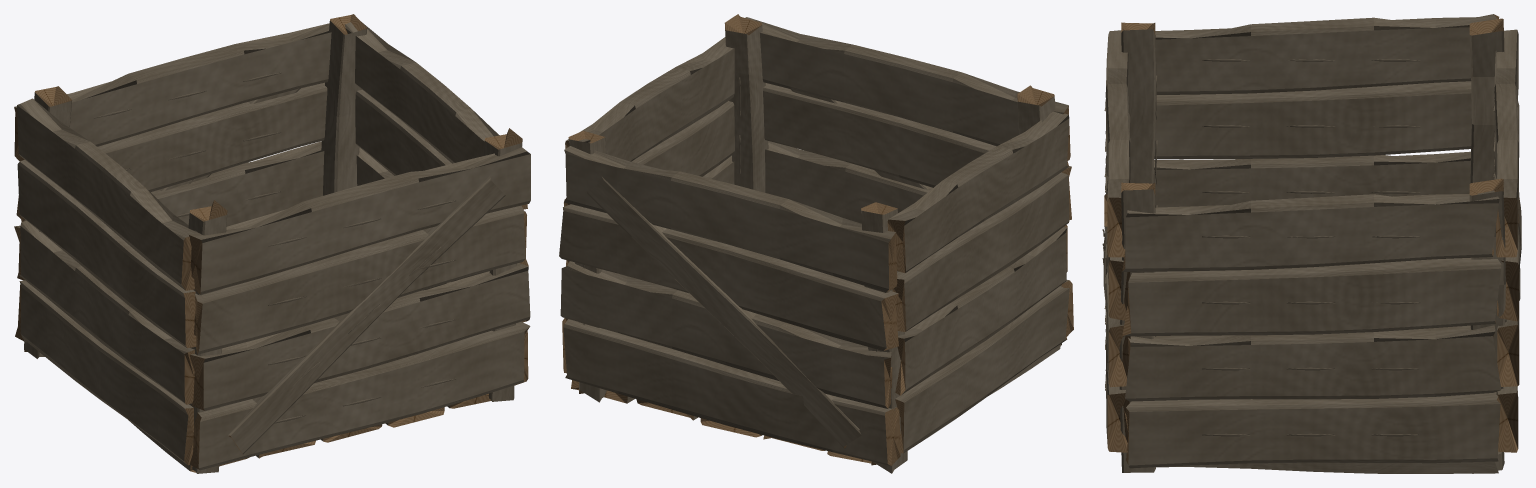
The model's file is crate_intact.fbx.
3 renders of one model, left to right at view 1: azimuth 30°, elevation 25°; view 2: azimuth 150°, elevation 25°; view 3: azimuth 270°, elevation 25°, orthographic. The views are drawn at different scales.
Parts seen in each view (by area): view 1: crate_intact; view 2: crate_intact; view 3: crate_intact.
Boxes of the visible parts, <box> form: crate_intact: <box>14,14,530,473</box>; crate_intact: <box>559,14,1073,473</box>; crate_intact: <box>1102,14,1521,473</box>.
Size of what is drawn, in the model's own units: 0.9136 by 0.6587 by 0.8635.
Materials: 1 (1 with a texture image).
